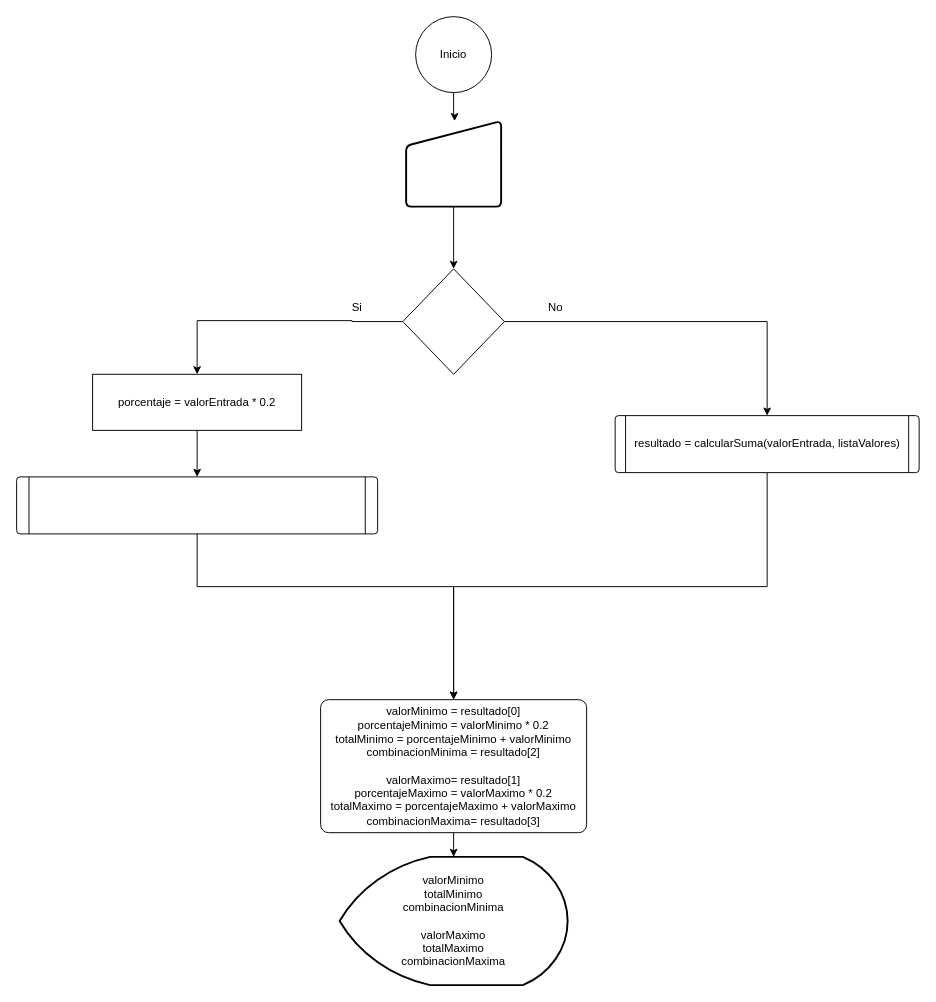
The diagram is 936 pixels wide and 1002 high, and some of its shapes have lost their labels. Each missing label, with the centre of its shape:
"esMaximo" goes at [453,321].
"resultado = calcularSuma(valorEntrada - porcenaje, listaValores)" goes at [197,505].
"valorEntrada listaValores esMaximo" goes at [453,163].
